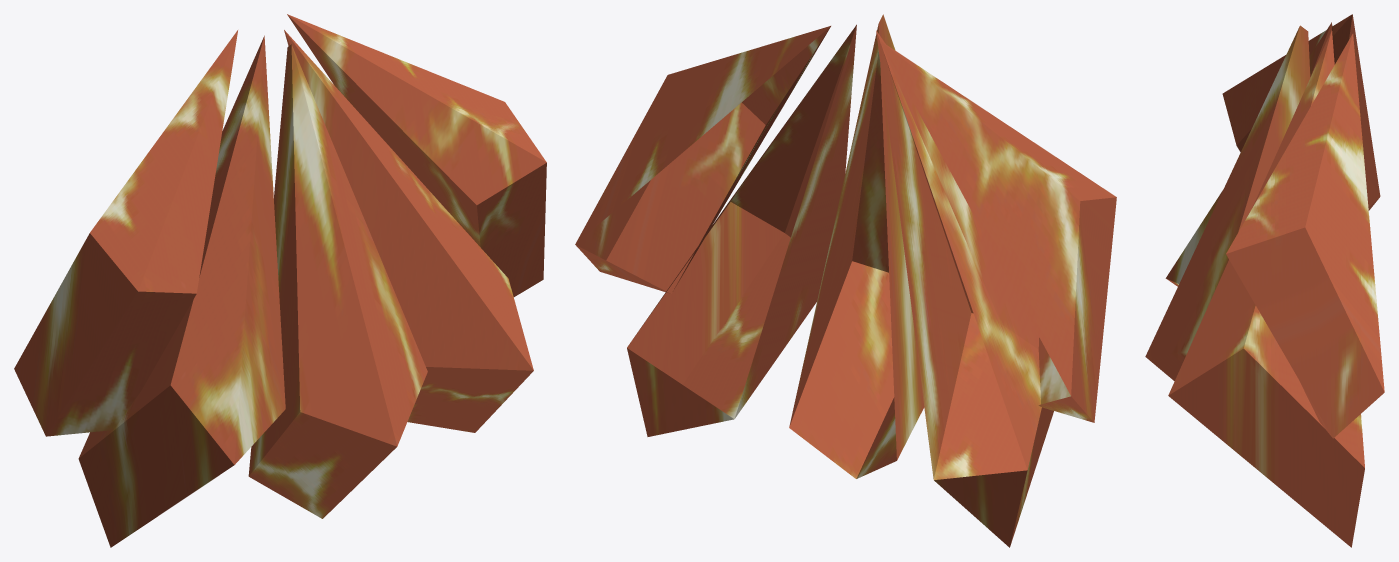
Rendered from boss25500_3.FBX.
The picture shows the model from 3 angles, left to right: view 1: azimuth 30°, elevation 25°; view 2: azimuth 150°, elevation 25°; view 3: azimuth 270°, elevation 25°; orthographic projection. The views are drawn at different scales.
Parts seen in each view (by area): view 1: Object02; view 2: Object02; view 3: Object02.
Boxes of the visible parts, bbox=[...] form: Object02: bbox=[14, 14, 546, 547]; Object02: bbox=[575, 14, 1116, 547]; Object02: bbox=[1145, 14, 1384, 547].
Bounding box in the file's own units: 28.15 × 12.5 × 26.08.
